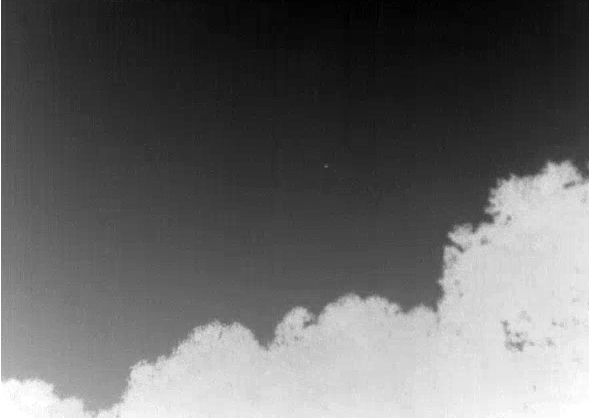dim target: (323, 163, 330, 169)
